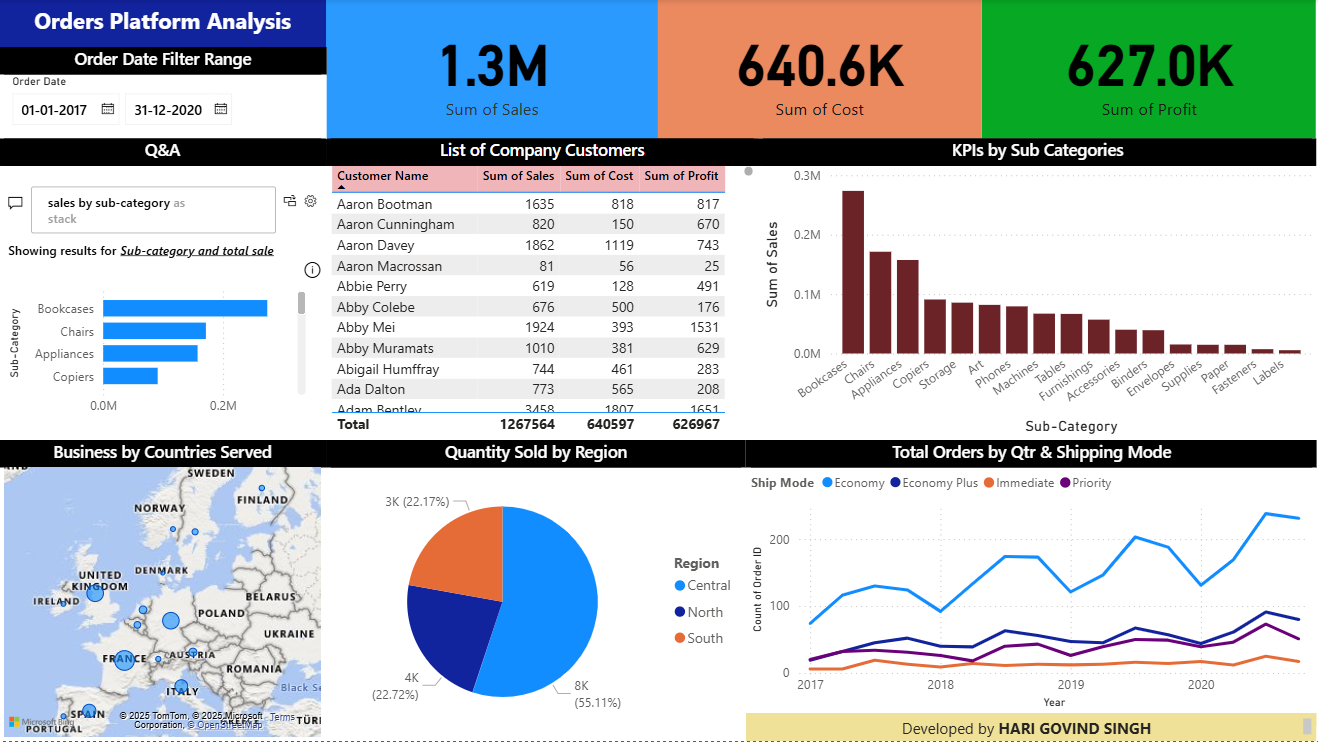

What the dashboard file says about the page in this screenshot:
{"tool":"powerbi","page":{"name":"Page 1","canvas":[1280,720],"ordinal":0},"visuals":[{"type":"card","fields":{"Values":["List of Orders.Cost"]},"box":[639.6,0,314.1,136],"z":0},{"type":"card","fields":{"Values":["List of Orders.Sales"]},"box":[317.4,0,322.2,136],"z":1000},{"type":"card","fields":{"Values":["List of Orders.Profit"]},"box":[953.7,0,325.5,136],"z":2000},{"type":"tableEx","title":"List of Company Customers","fields":{"Values":["List of Orders.Customer Name","List of Orders.Sales","List of Orders.Cost","List of Orders.Profit"]},"box":[317.4,136,419.4,291.5],"z":3000},{"type":"clusteredColumnChart","title":"KPIs by Sub Categories","fields":{"Y":["List of Orders.Sales"],"Category":["List of Orders.Sub-Category"]},"box":[736.7,136,542.4,291.5],"z":4000},{"type":"lineChart","title":"Total Orders by Qtr & Shipping Mode","fields":{"Y":["List of Orders.Order ID"],"Category":["List of Orders.Order Date.Variation.Date Hierarchy.Year","List of Orders.Order Date.Variation.Date Hierarchy.Quarter"],"Series":["List of Orders.Ship Mode"]},"box":[724.9,427.9,554.6,264.9],"z":5000},{"type":"pieChart","title":"Quantity Sold by Region","fields":{"Category":["List of Orders.Region"],"Y":["List of Orders.Quantity"]},"box":[317.3,427.9,407.6,292.6],"z":6000},{"type":"map","title":"Business by Countries Served","fields":{"Category":["List of Orders.Country"],"Size":["List of Orders.Sales"]},"box":[0,427.5,317.4,293.1],"z":7000},{"type":"textbox","box":[736.5,692.8,542.9,27.7],"z":8000},{"type":"slicer","title":"Order Date Filter Range","fields":{"Values":["List of Orders.Order Date"]},"box":[0,46.9,318,89.3],"z":10000},{"type":"qnaVisual","title":"Q&A","box":[0,136,317.4,291.5],"z":11000},{"type":"textbox","box":[777.2,693,502,13],"z":12000},{"type":"textbox","box":[725.4,693,553.8,27.5],"z":13000},{"type":"textbox","box":[0,0,317.4,47],"z":14000}]}

Visuals, with their boxes in screenshot pixels (x1, y1, x2, y2), scaled from the page's 1280x720 canvas onto the 1318x742 screenshot:
card - List of Orders.Cost: <box>659,0,982,140</box>
card - List of Orders.Sales: <box>327,0,659,140</box>
card - List of Orders.Profit: <box>982,0,1317,140</box>
"List of Company Customers" tableEx: <box>327,140,759,441</box>
"KPIs by Sub Categories" clusteredColumnChart: <box>759,140,1317,441</box>
"Total Orders by Qtr & Shipping Mode" lineChart: <box>746,441,1317,714</box>
"Quantity Sold by Region" pieChart: <box>327,441,746,741</box>
"Business by Countries Served" map: <box>0,441,327,741</box>
textbox: <box>758,714,1317,741</box>
"Order Date Filter Range" slicer: <box>0,48,327,140</box>
"Q&A" qnaVisual: <box>0,140,327,441</box>
textbox: <box>800,714,1317,728</box>
textbox: <box>747,714,1317,741</box>
textbox: <box>0,0,327,48</box>
